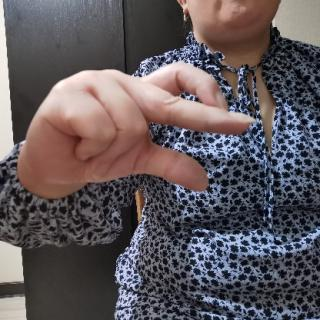DHELL: (19, 48, 254, 214)
